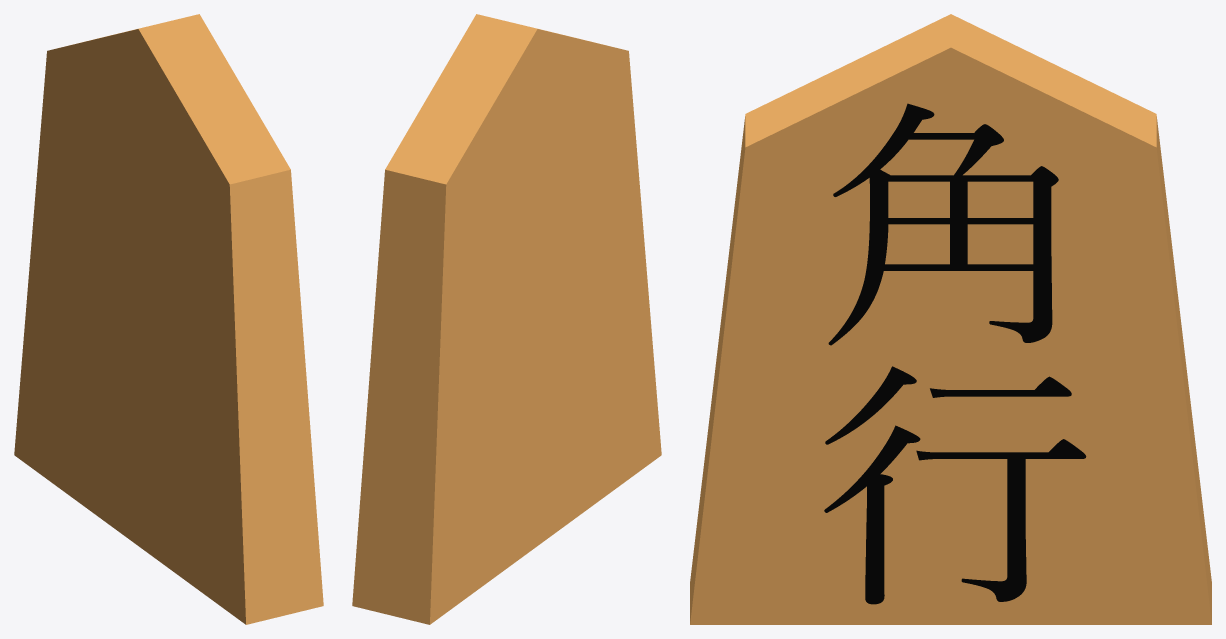
Rendered from JapaneseChessBishop.fbx.
3 views of the same model, side by side, from view 1: azimuth 30°, elevation 25°; view 2: azimuth 150°, elevation 25°; view 3: azimuth 270°, elevation 25° (orthographic). The views are drawn at different scales.
Visible parts, largest first — view 1: Cube; view 2: Cube; view 3: Cube, Text.
Boxes of the visible parts, box(x1,y1,x2,y2) form: Cube: box(14, 14, 323, 624); Cube: box(352, 14, 661, 624); Cube: box(690, 14, 1211, 624); Text: box(824, 103, 1086, 604).
Size of the model in its own units: 39.26 by 242 by 200.
2 materials, 2 textured.
